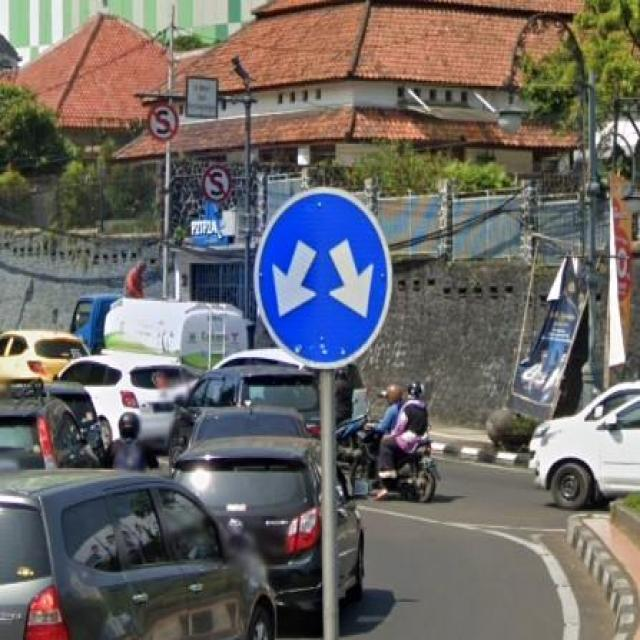traffic sign: (252, 192, 388, 368)
